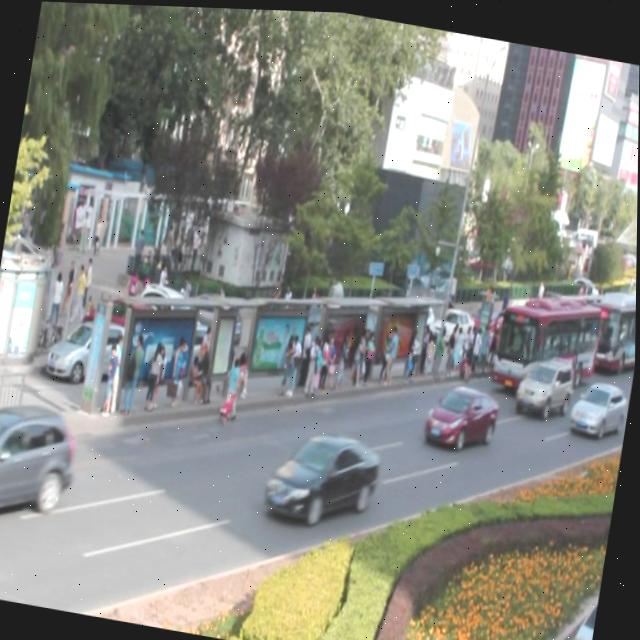car: (261, 416, 385, 532), (0, 394, 82, 531), (423, 375, 502, 452), (514, 347, 577, 414), (567, 371, 629, 435)
van: (487, 277, 602, 397), (575, 274, 637, 371)
